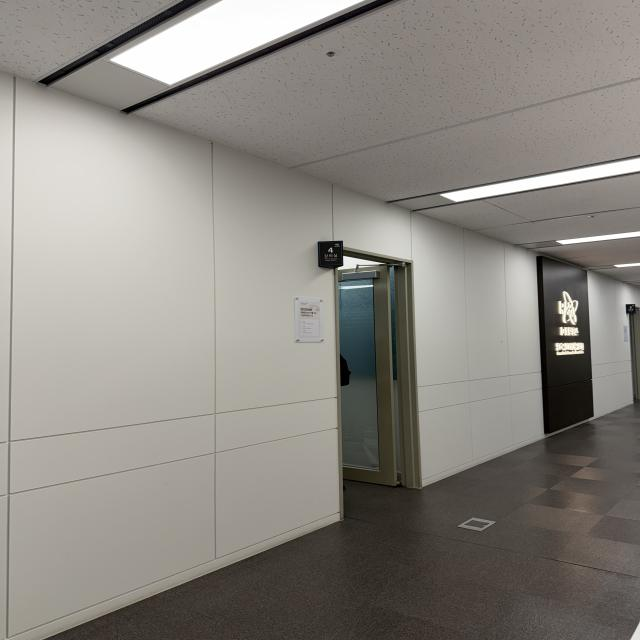room4: (318, 242, 344, 268)
